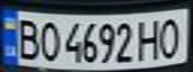2: (115, 19, 139, 64)
4: (60, 19, 84, 63)
6: (78, 19, 100, 64)
9: (97, 19, 118, 64)
B: (12, 15, 42, 61)
H: (136, 16, 163, 62)
O: (157, 13, 187, 60), (36, 18, 60, 62)
